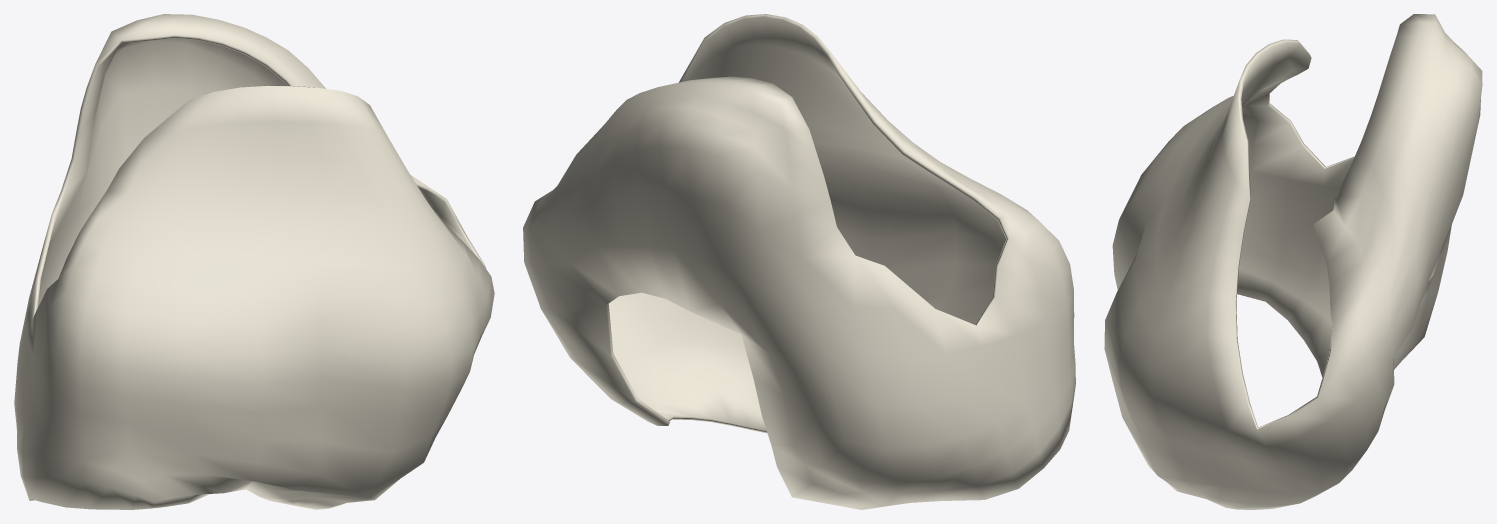
3 renders of one model, left to right at view 1: azimuth 30°, elevation 25°; view 2: azimuth 150°, elevation 25°; view 3: azimuth 270°, elevation 25°, orthographic. The views are drawn at different scales.
Parts seen in each view (by area): view 1: ZA_5a9cd8e0b26dd97d; view 2: ZA_5a9cd8e0b26dd97d; view 3: ZA_5a9cd8e0b26dd97d.
Part boxes in pixels (bbox=[...]): ZA_5a9cd8e0b26dd97d: bbox=[14, 14, 494, 509]; ZA_5a9cd8e0b26dd97d: bbox=[523, 14, 1075, 509]; ZA_5a9cd8e0b26dd97d: bbox=[1104, 14, 1482, 509].
Bounding box in the file's own units: 0.0611 × 0.0532 × 0.0423.
